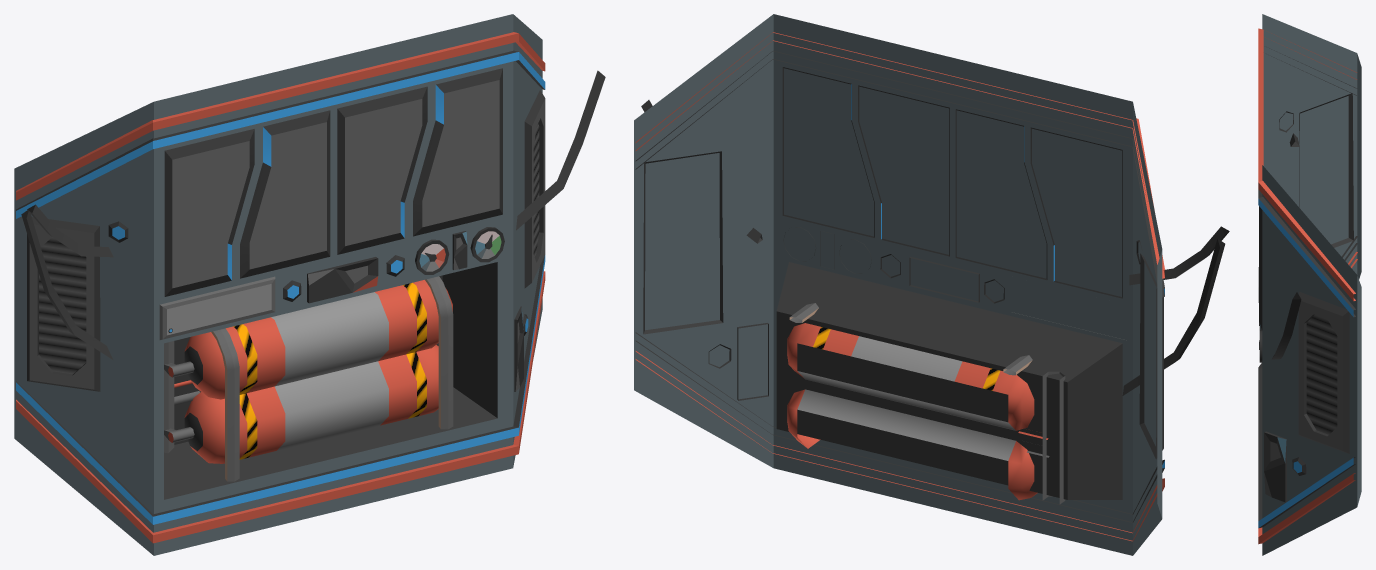
File: SciFi_Panel_3.fbx
3 renders of one model, left to right at view 1: azimuth 30°, elevation 25°; view 2: azimuth 150°, elevation 25°; view 3: azimuth 270°, elevation 25°, orthographic. The views are drawn at different scales.
Parts seen in each view (by area): view 1: SciFi_Panel_3; view 2: SciFi_Panel_3; view 3: SciFi_Panel_3.
Boxes of the visible parts, <box> form: SciFi_Panel_3: <box>14,14,605,555</box>; SciFi_Panel_3: <box>634,14,1229,555</box>; SciFi_Panel_3: <box>1258,14,1361,555</box>.
Size of the model in its own units: 490 by 367 by 88.13.
